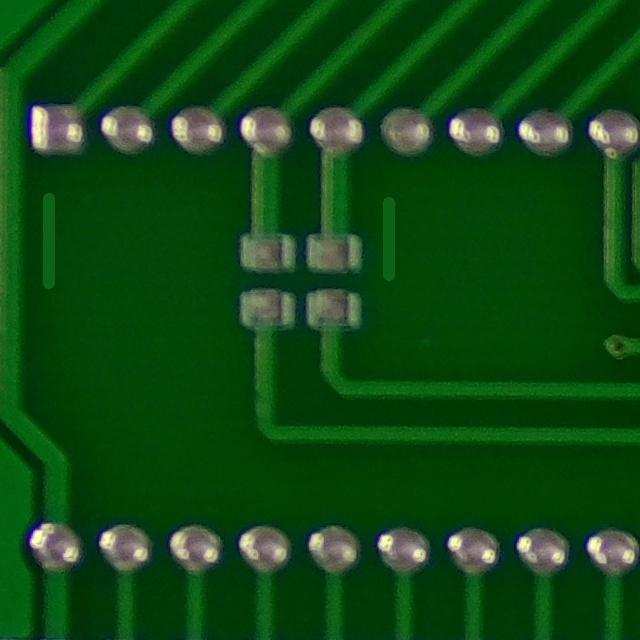spurious_copper: (24, 180, 68, 301), (368, 185, 411, 293)
